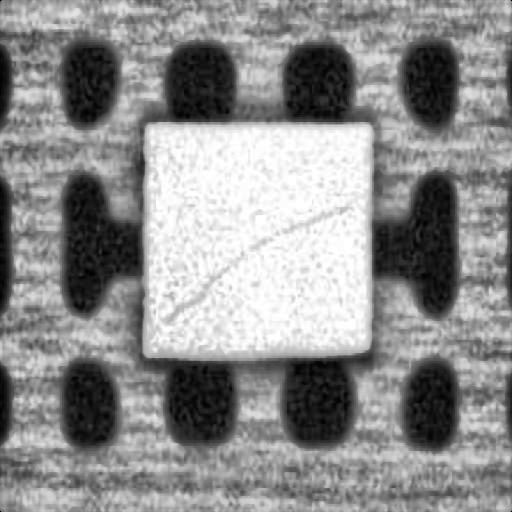DIE_CRACK: (166, 199, 354, 324)
